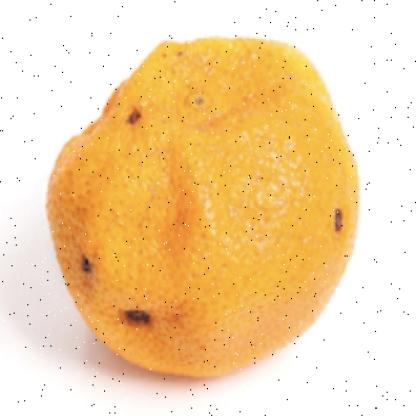rotten: (49, 36, 363, 379)
